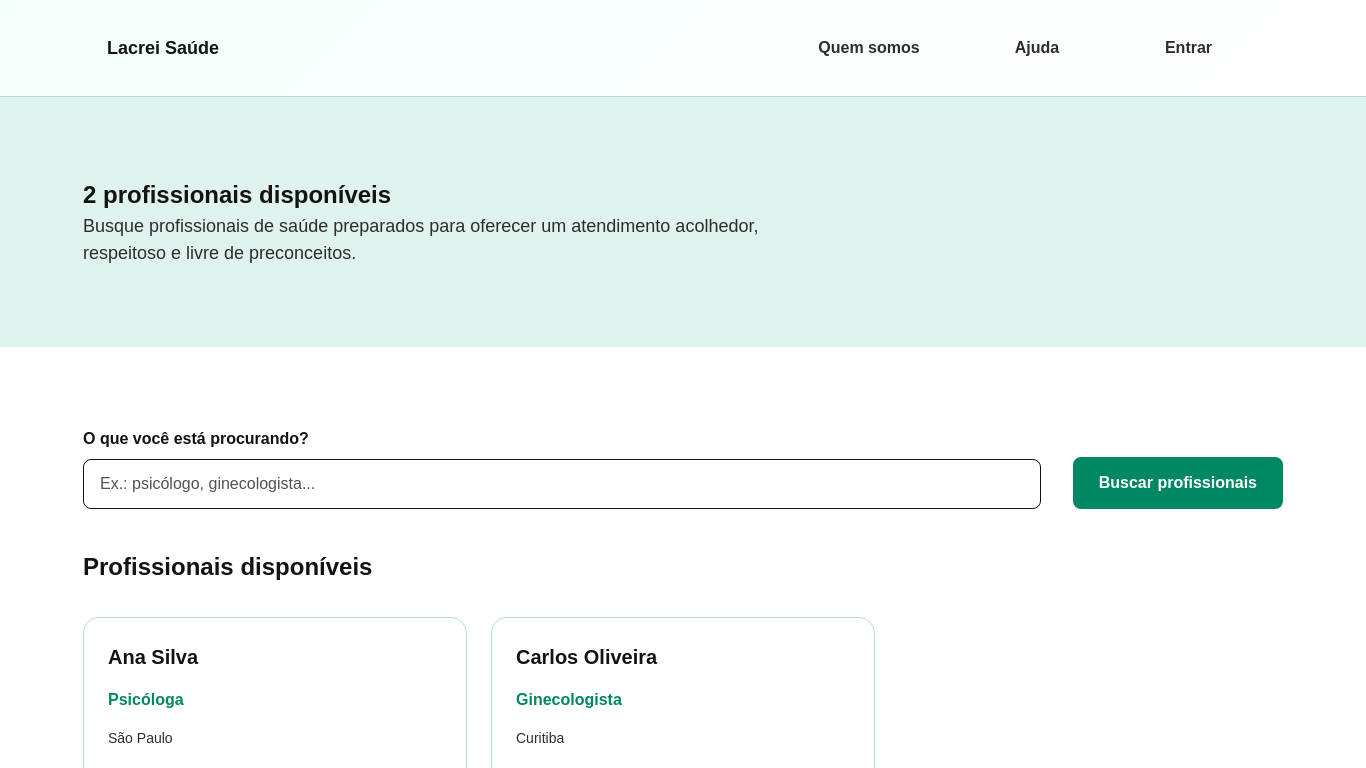
Test: BuscarPage › filtra profissionais pelo nome
Check: the heading "Ana Silva" is shown, box [108,646,198,668]
In the search field: (562, 484) [83,459,1041,509], type "ana"
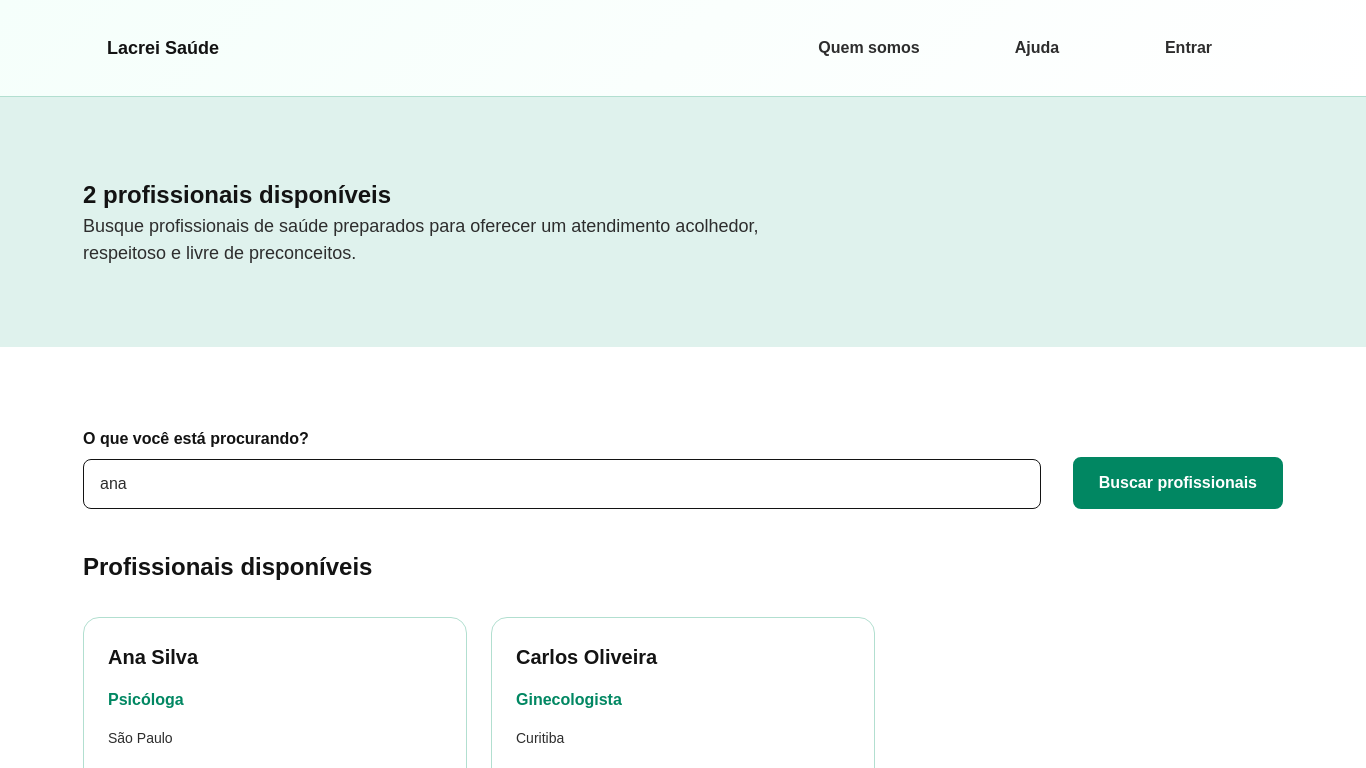
Click the button "Buscar profissionais": click(1178, 483) [1073,457,1283,509]
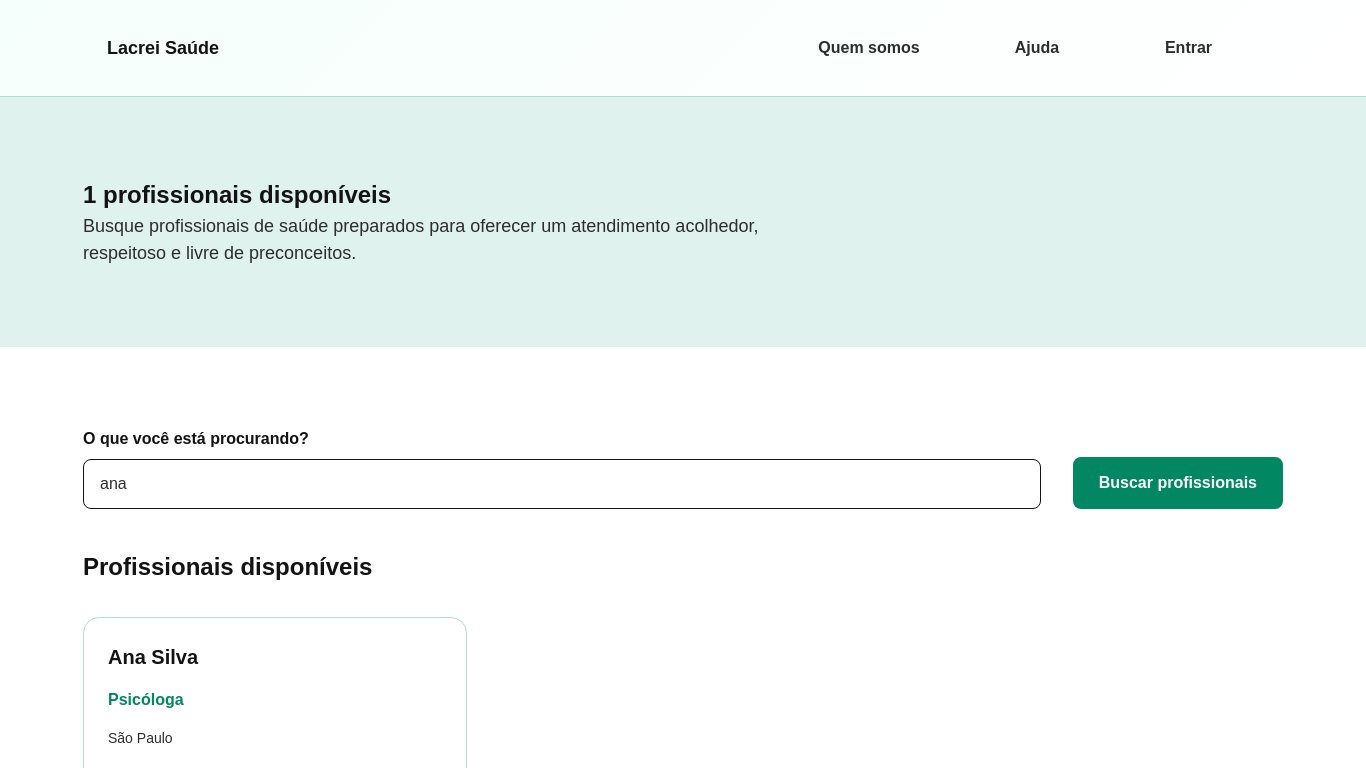
Check: the heading "Ana Silva" is shown, box [108,646,198,668]
Check: the heading "Carlos Oliveira" is gone
